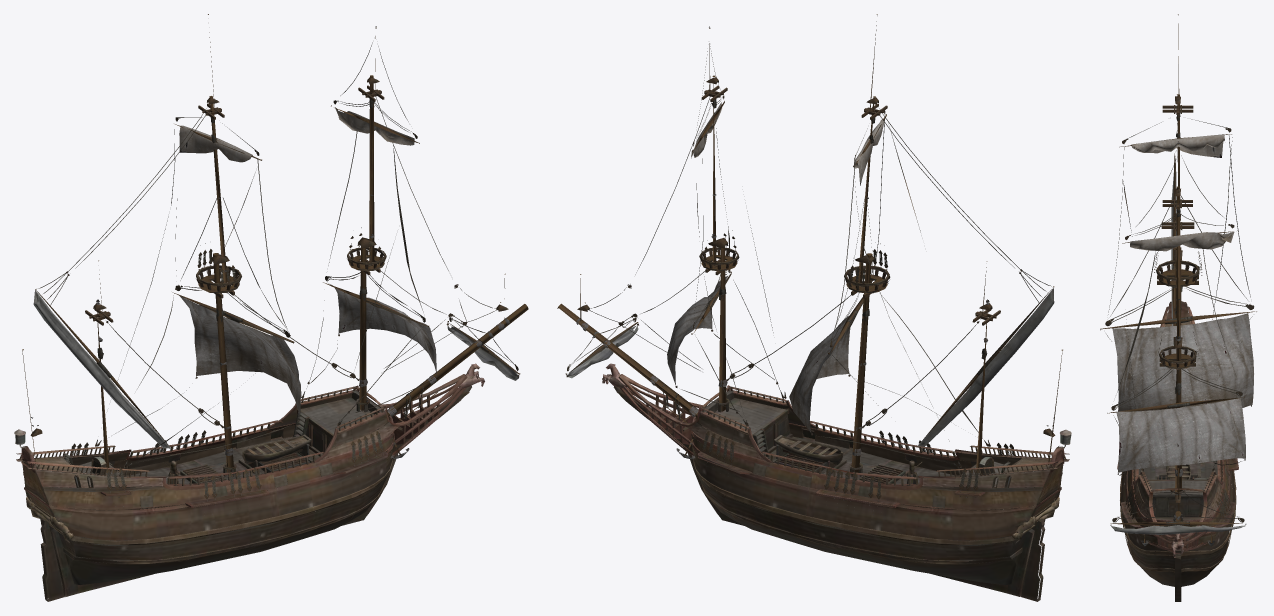
File: ph_dutch_ship_medium.glb
3 views of the same model, side by side, from view 1: azimuth 30°, elevation 25°; view 2: azimuth 150°, elevation 25°; view 3: azimuth 270°, elevation 25° (orthographic). The views are drawn at different scales.
Parts seen in each view (by area): view 1: dutch_ship_medium_rigging; view 2: dutch_ship_medium_rigging; view 3: dutch_ship_medium_rigging.
Part boxes in pixels (x1,y1,x2,y2): dutch_ship_medium_rigging: (14, 14, 528, 601); dutch_ship_medium_rigging: (557, 14, 1071, 601); dutch_ship_medium_rigging: (1100, 14, 1256, 601).
Bounding box in the file's own units: 24.08 × 24.55 × 6.81.
3 materials, 3 textured.
